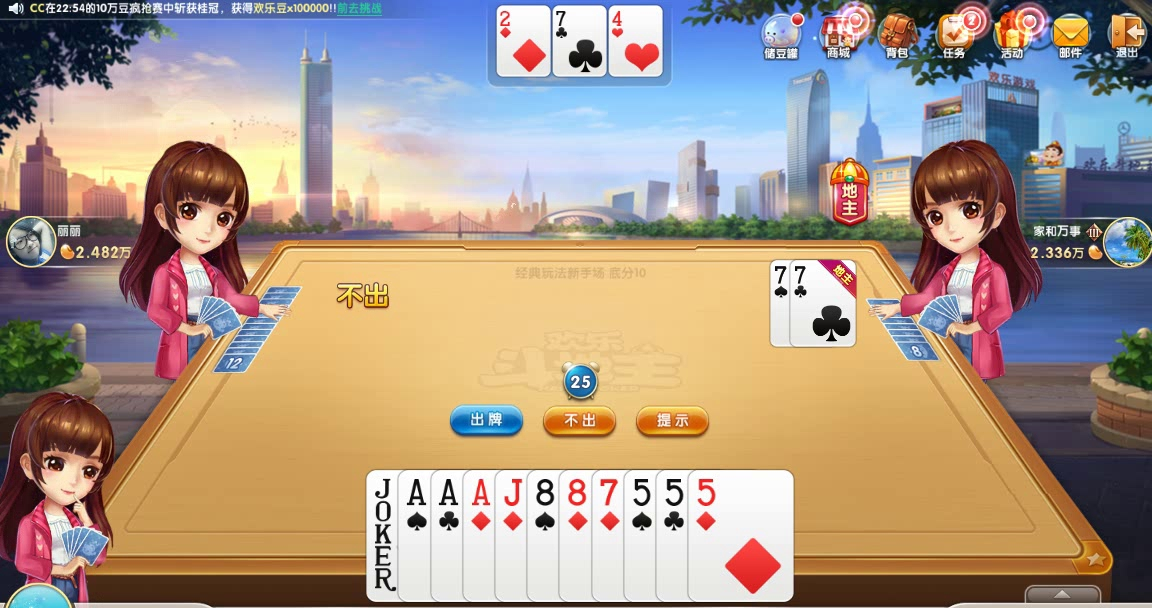11~1: (495, 469, 605, 601)
14~1: (463, 469, 573, 601)
14~2: (430, 469, 540, 601)
14~4: (397, 469, 507, 601)
15~1: (496, 4, 551, 77)
17~3: (366, 469, 476, 601)
4~3: (609, 4, 664, 77)
5~1: (686, 469, 796, 601)
5~2: (656, 469, 766, 601)
5~4: (623, 469, 733, 601)
7~1: (591, 469, 701, 601)
7~2: (790, 258, 856, 346), (553, 4, 608, 77)
7~4: (770, 259, 836, 347)
8~1: (559, 469, 669, 601)
8~4: (527, 469, 637, 601)
